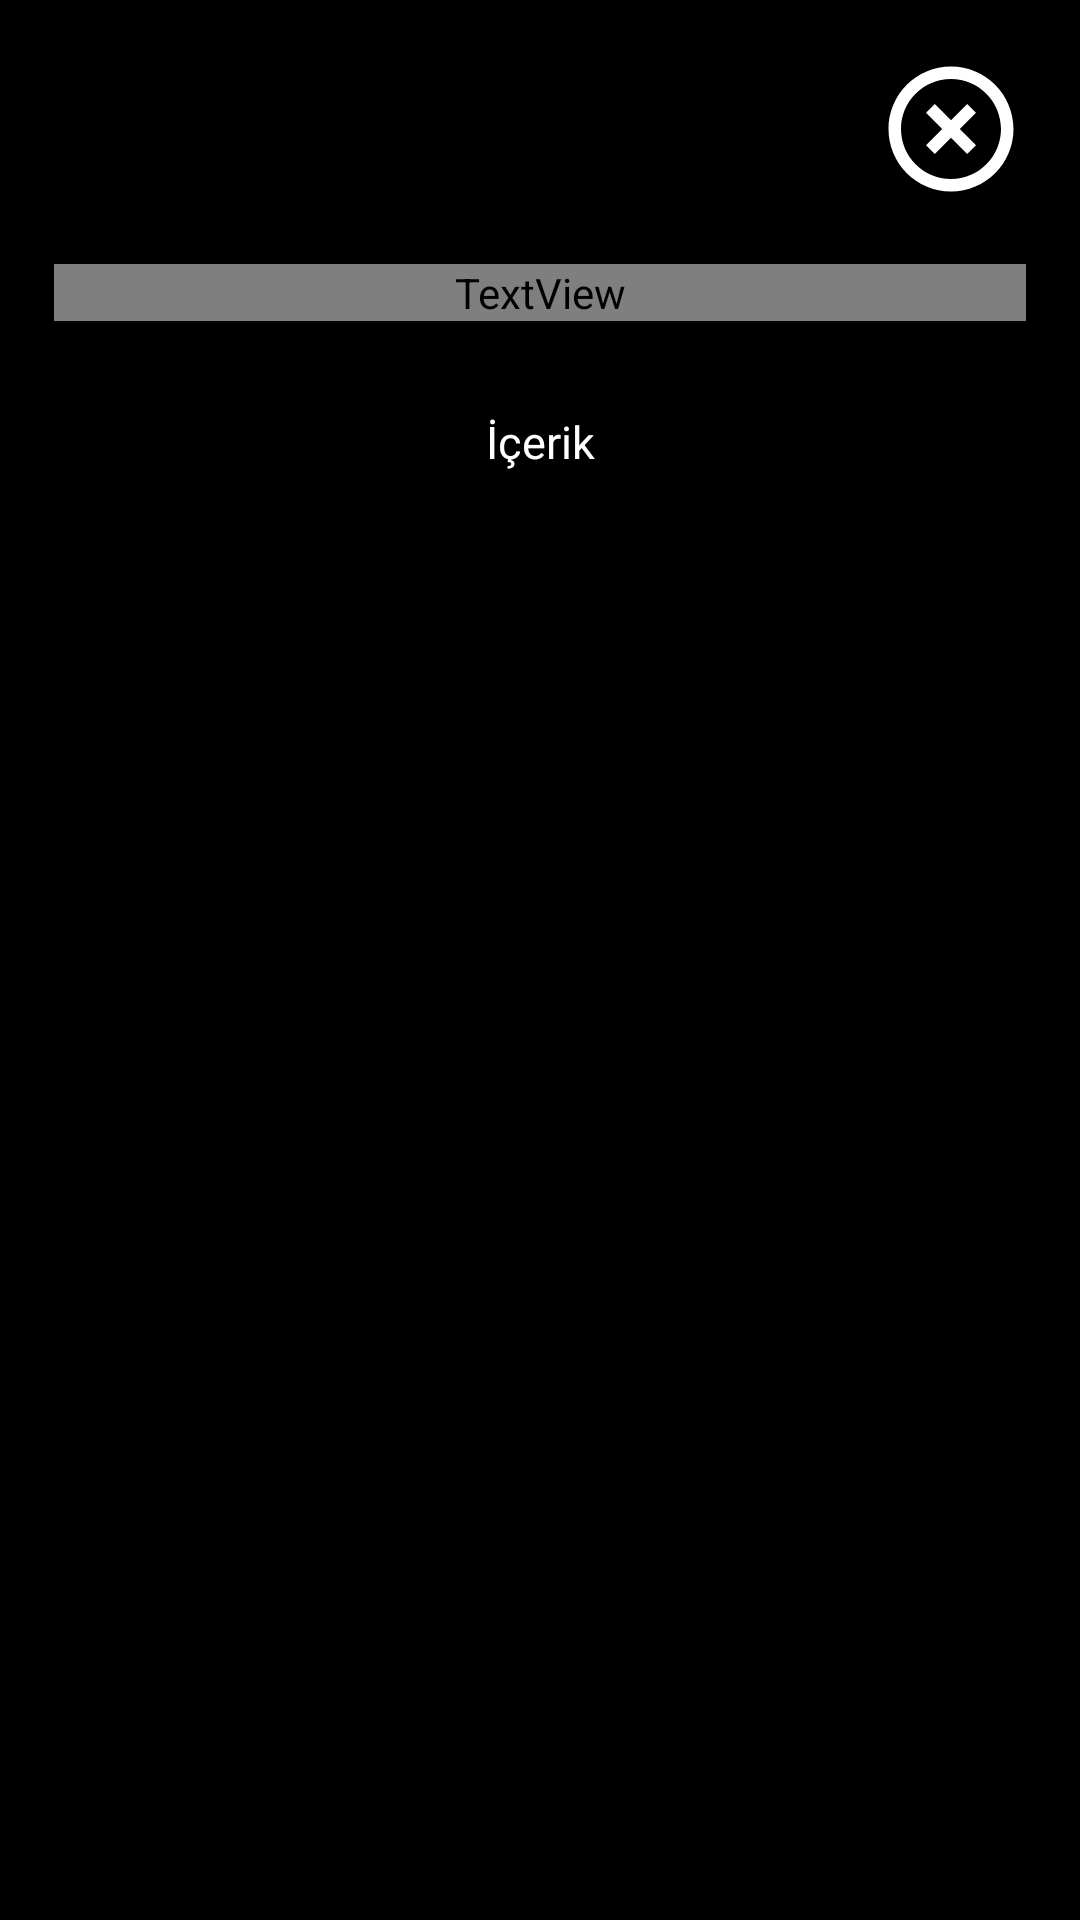

Icons on this 1080 x 1920 Android screen, each with the point to tap as (x,y):
highlight off: (951,129)
